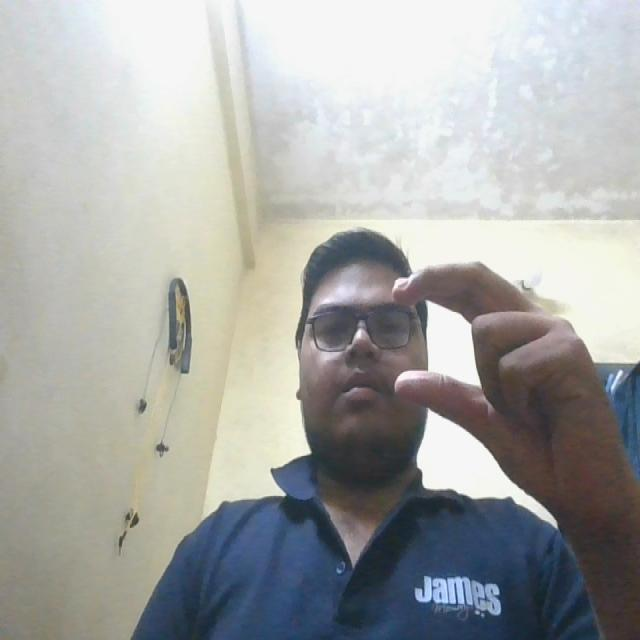No: (376, 246, 623, 492)
